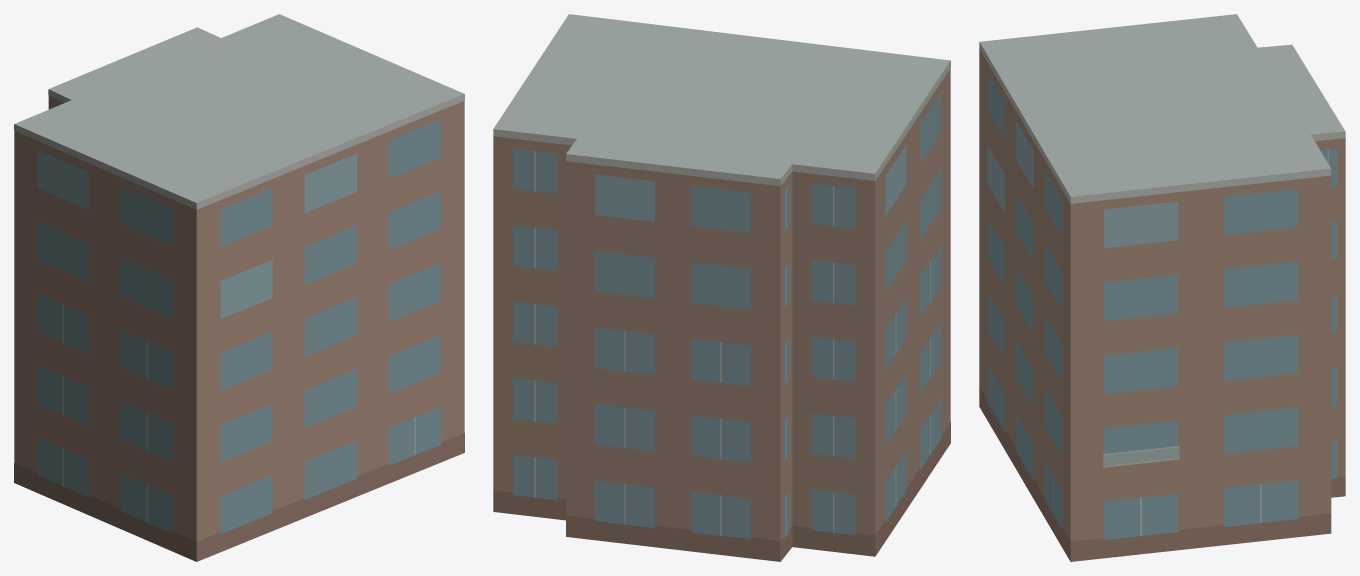
File: survey-upis-32715893.glb
The picture shows the model from 3 angles, left to right: view 1: azimuth 30°, elevation 25°; view 2: azimuth 150°, elevation 25°; view 3: azimuth 270°, elevation 25°; orthographic projection. The views are drawn at different scales.
Visible parts, largest first — view 1: survey-upis-32715893.tmp; view 2: survey-upis-32715893.tmp; view 3: survey-upis-32715893.tmp.
Part boxes in pixels (x1,y1,x2,y2): survey-upis-32715893.tmp: (14,14,464,561); survey-upis-32715893.tmp: (493,14,950,561); survey-upis-32715893.tmp: (979,14,1345,561).
Size of the model in its own units: 14 by 13 by 11.83.
